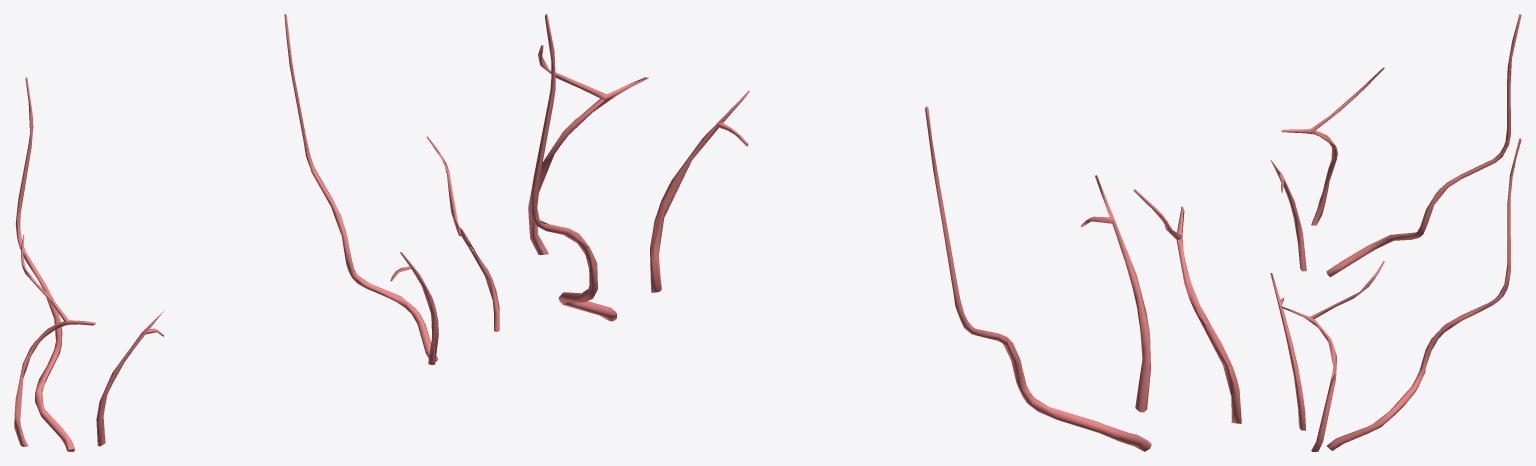
File: arteres-cou.lo.glb
3 renders of one model, left to right at view 1: azimuth 30°, elevation 25°; view 2: azimuth 150°, elevation 25°; view 3: azimuth 270°, elevation 25°, orthographic. The views are drawn at different scales.
Visible parts, largest first — view 1: FJ2226, FJ2278, FJ2308, FJ2256, FJ2209, FJ2210; view 2: FJ2278, FJ2226, FJ2308, FJ2209, FJ2210, FJ2256; view 3: FJ2226, FJ2278, FJ2256, FJ2308, FJ2210, FJ2209.
Boxes of the visible parts, bbox=[...] form: FJ2226: bbox=[284, 14, 437, 361]; FJ2278: bbox=[15, 77, 74, 451]; FJ2308: bbox=[14, 235, 95, 446]; FJ2256: bbox=[426, 136, 499, 331]; FJ2209: bbox=[96, 310, 164, 446]; FJ2210: bbox=[390, 252, 438, 364]; FJ2278: bbox=[925, 106, 1151, 451]; FJ2226: bbox=[531, 14, 616, 321]; FJ2308: bbox=[1133, 189, 1241, 423]; FJ2209: bbox=[1081, 175, 1150, 412]; FJ2210: bbox=[650, 90, 749, 292]; FJ2256: bbox=[528, 45, 648, 254]; FJ2226: bbox=[1327, 138, 1521, 450]; FJ2278: bbox=[1326, 14, 1521, 276]; FJ2256: bbox=[1280, 261, 1384, 451]; FJ2308: bbox=[1281, 67, 1384, 225]; FJ2210: bbox=[1270, 273, 1306, 430]; FJ2209: bbox=[1270, 160, 1306, 271].
Bounding box in the file's own units: 0.1232 × 0.0709 × 0.0563.
